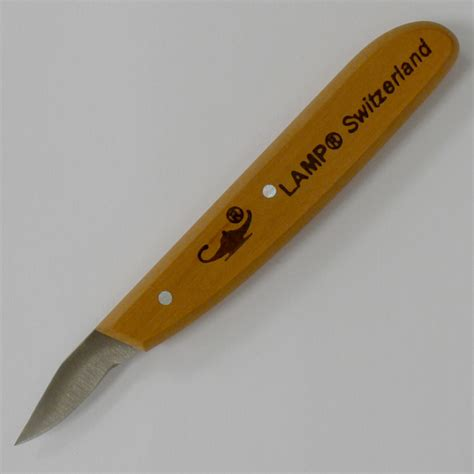knife: (14, 17, 464, 445)
